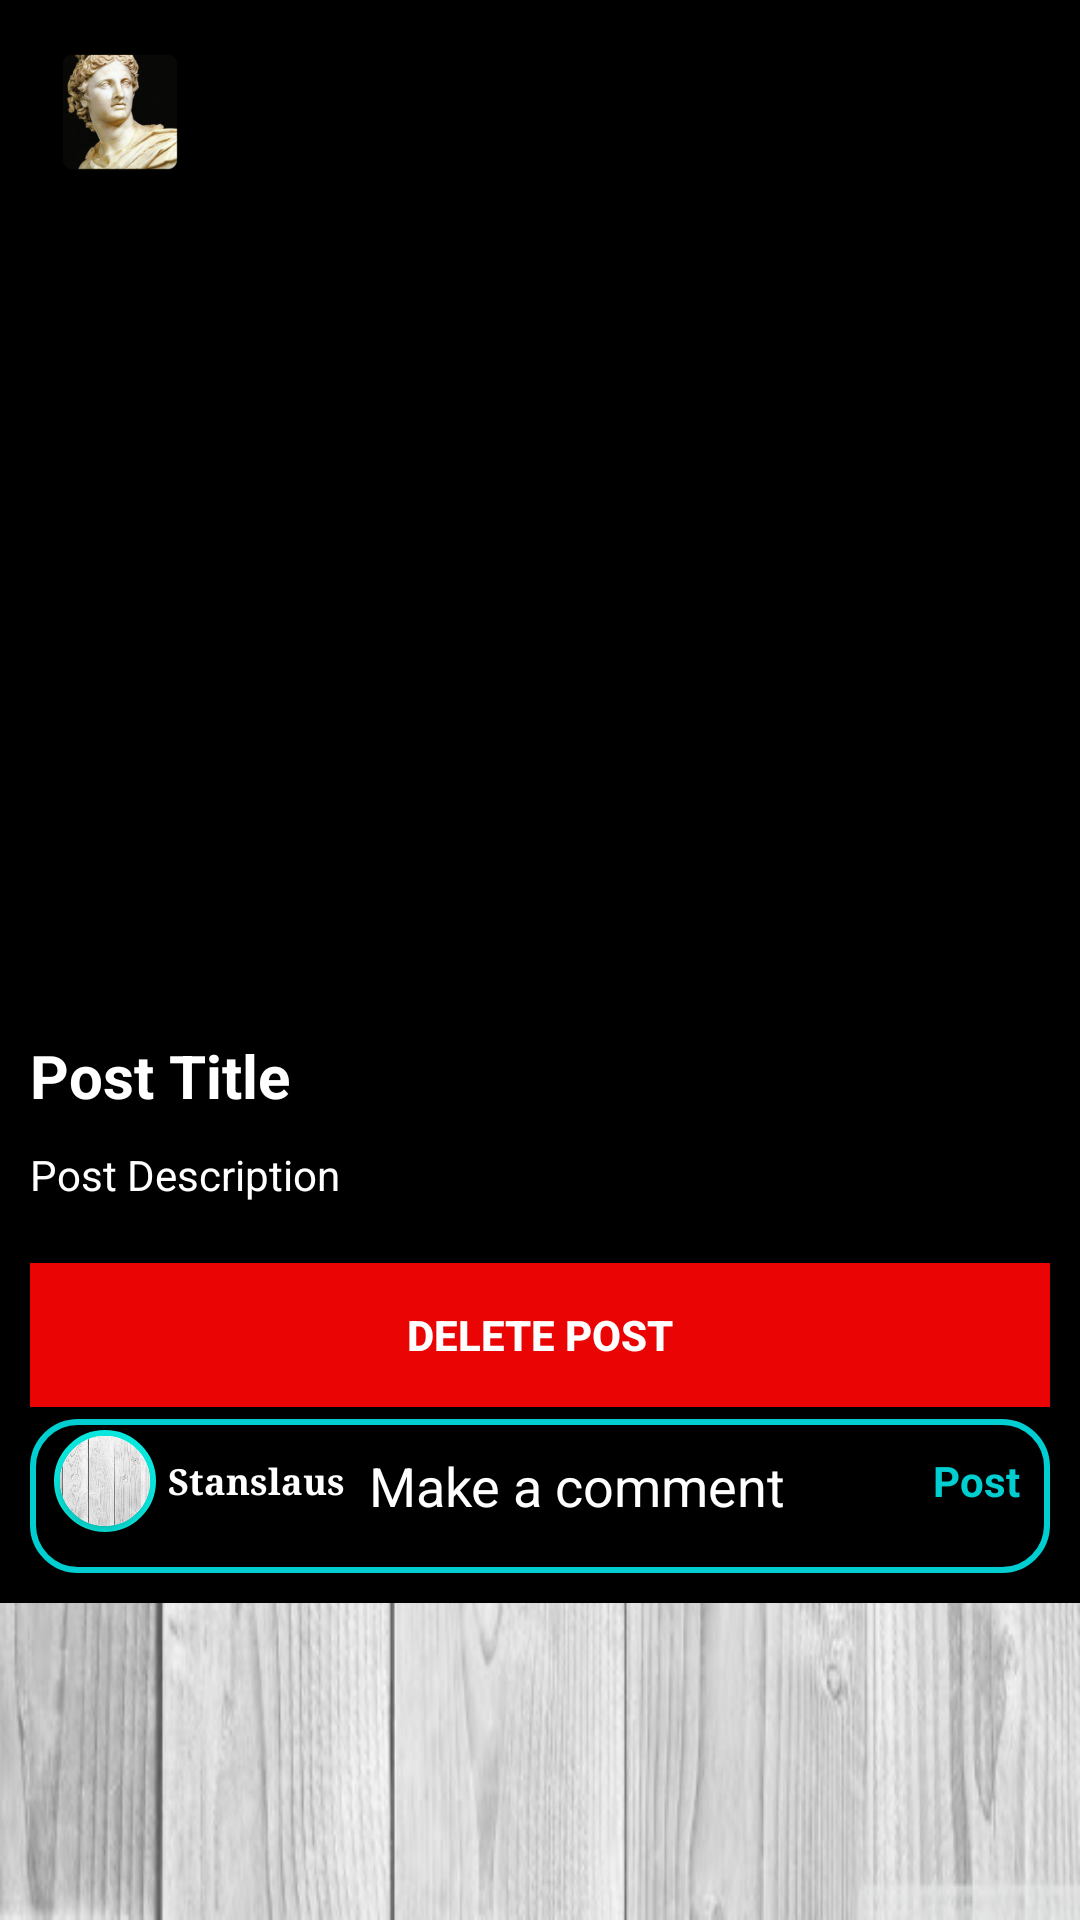

Icon bounding boxes for this 1080 x 1920 phone screenshot, format detection(x1, y1, x2, y2):
wood: detection(60, 1436, 150, 1526)
